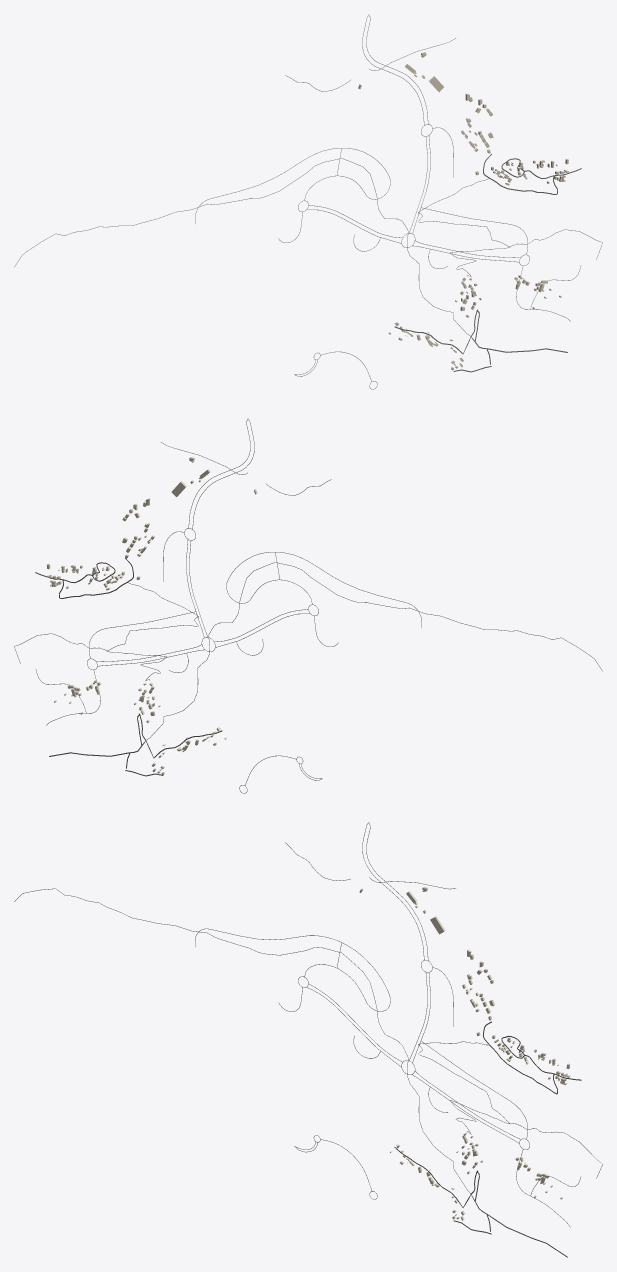
File: historic-palestine-11_24_3530_3180.glb
The picture shows the model from 3 angles, top to bottom: view 1: azimuth 30°, elevation 25°; view 2: azimuth 150°, elevation 25°; view 3: azimuth 330°, elevation 25°; orthographic projection.
Visible parts, largest first — view 1: Road .041; view 2: Road .041; view 3: Road .041.
Boxes of the visible parts, x1=… form: Road .041: x1=14, y1=158, x2=470, y2=336; Road .041: x1=146, y1=562, x2=602, y2=740; Road .041: x1=14, y1=888, x2=470, y2=1193.
Bounding box in the file's own units: 1950 × 1225 × 8.7.
